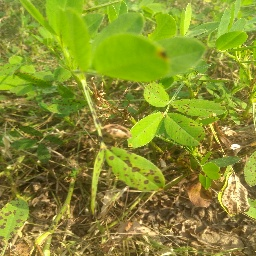GroundNut_Leaf: (84, 34, 171, 84), (103, 147, 170, 194), (216, 168, 247, 225), (1, 198, 33, 242), (127, 109, 164, 147), (165, 113, 206, 146), (169, 94, 229, 113), (43, 98, 86, 116), (214, 31, 249, 51), (141, 88, 168, 108)
